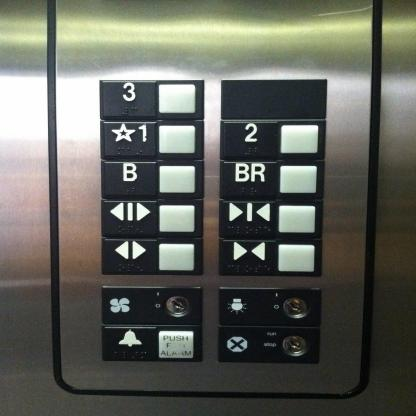2: (216, 118, 328, 162)
3: (94, 77, 208, 123)
B: (97, 157, 206, 202)
BR: (216, 157, 328, 202)
alarm: (98, 322, 205, 364)
close: (216, 196, 327, 241), (214, 236, 324, 278)
fan: (98, 284, 205, 328)
light: (214, 284, 326, 328)
open: (96, 197, 206, 240), (97, 236, 207, 277)
s1: (97, 117, 207, 162)
stop: (214, 323, 322, 365)
